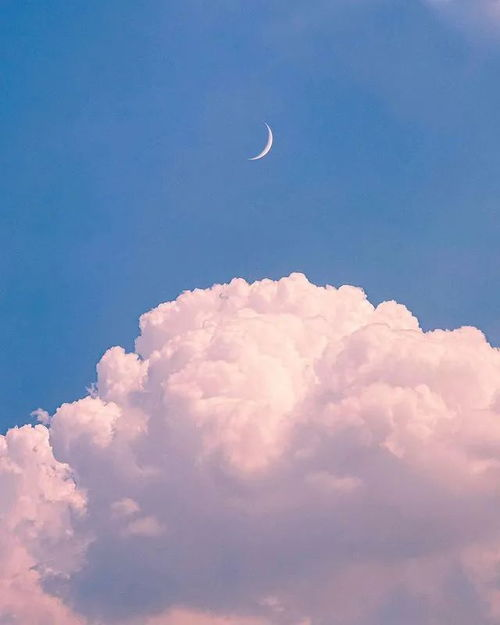Cumulus: (7, 261, 498, 620)
